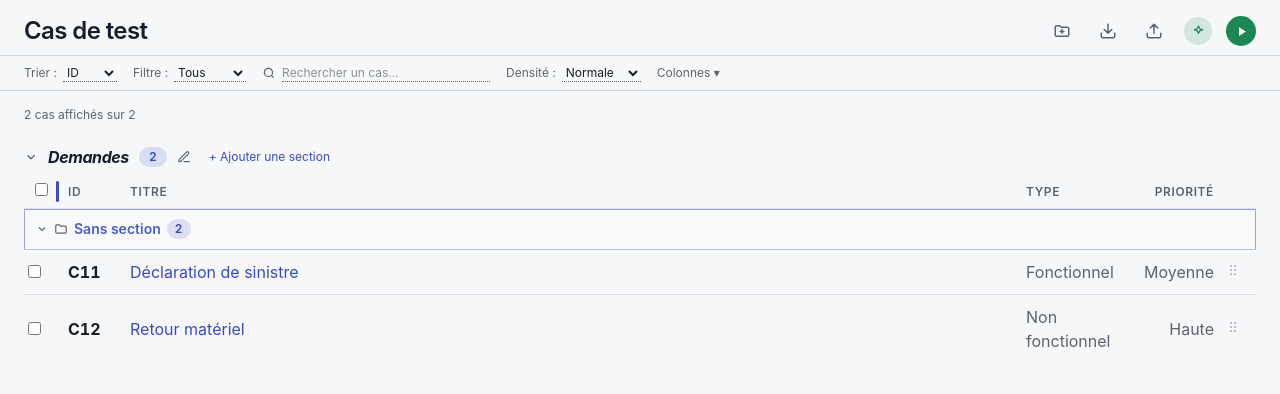
Test case: les préférences d'affichage › propose « réinitialiser » SEULEMENT quand quelque chose a été modifié
Expected: the text "Réinitialiser l'affichage" is not shown
Select "Aérée" in the dropdown labelled "Densité :" at [601, 73], box [562,64,641,82]
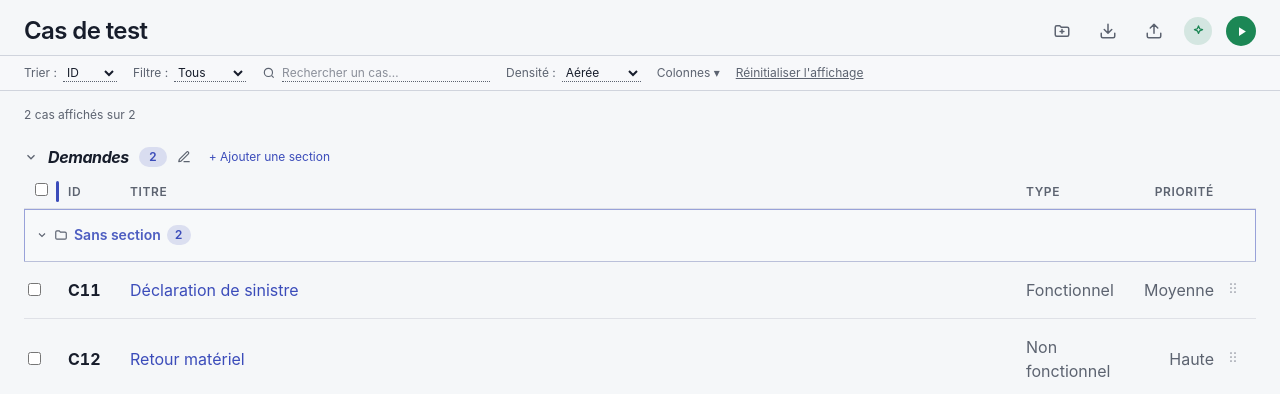
Expected: the text "Réinitialiser l'affichage" is shown, [736,65,863,81]
